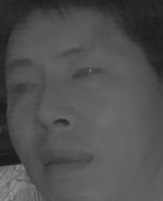eye: (70, 63, 102, 85), (12, 78, 38, 97)
mouth: (38, 146, 94, 176)
